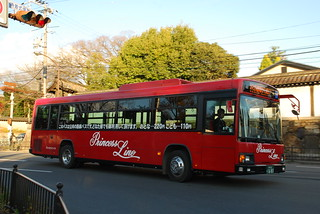bus: (30, 78, 285, 183)
